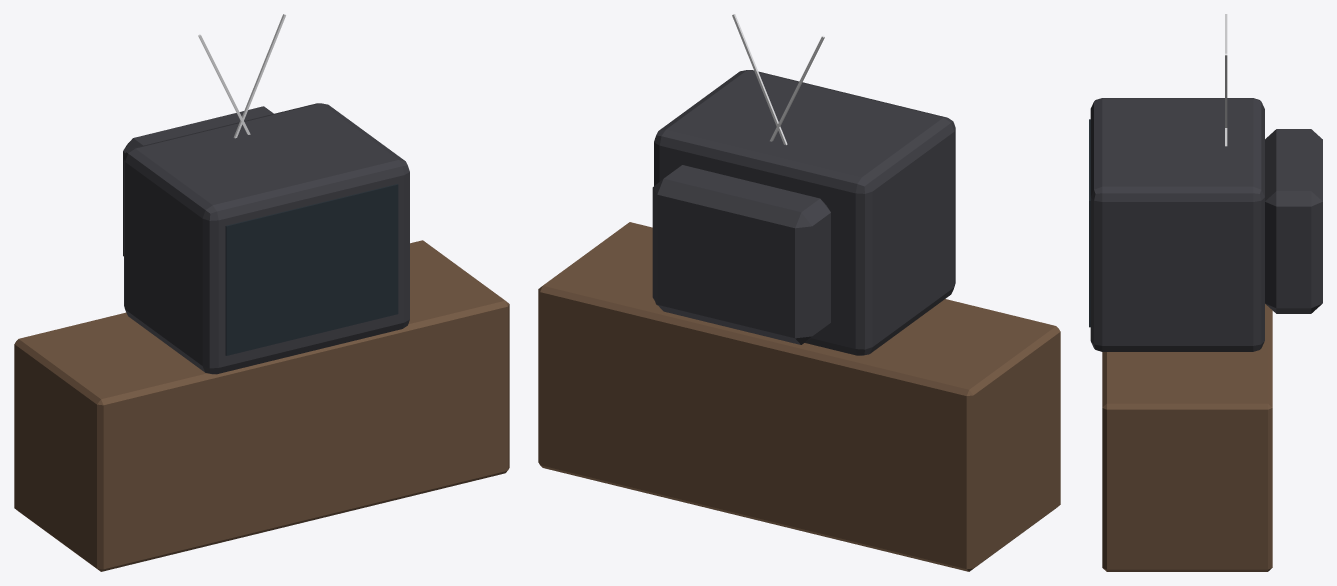
The model's file is tv_stand.fbx.
The picture shows the model from 3 angles, left to right: view 1: azimuth 30°, elevation 25°; view 2: azimuth 150°, elevation 25°; view 3: azimuth 270°, elevation 25°; orthographic projection. The views are drawn at different scales.
Parts seen in each view (by area): view 1: Body, Screen; view 2: Body; view 3: Body, Screen.
Part boxes in pixels (box(x1,y1,x2,y2)): Body: box(14, 14, 509, 571); Screen: box(225, 184, 398, 355); Body: box(538, 14, 1060, 571); Body: box(1090, 14, 1322, 571); Screen: box(1089, 119, 1090, 327).
Bounding box in the file's own units: 1.2 × 1.26 × 0.604.
